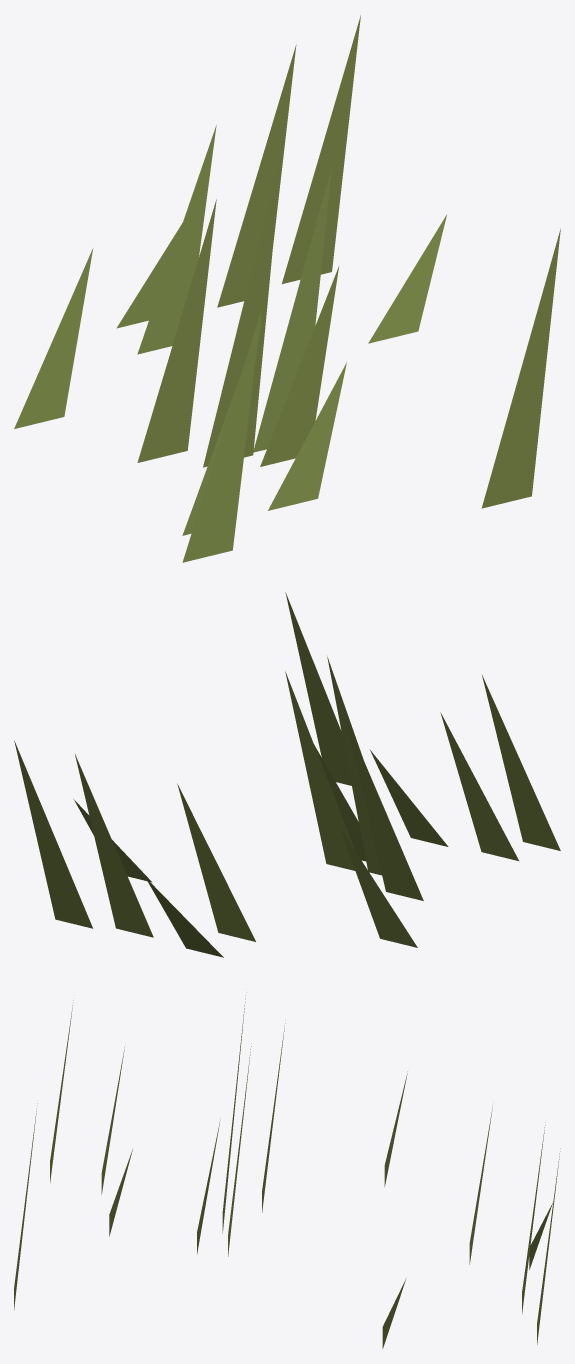
Rendered from BP_Grass_Clump_1.fbx.
3 renders of one model, top to bottom at view 1: azimuth 30°, elevation 25°; view 2: azimuth 150°, elevation 25°; view 3: azimuth 270°, elevation 25°, orthographic. The views are drawn at different scales.
Parts seen in each view (by area): view 1: BP_Grass_Clump_1; view 2: BP_Grass_Clump_1; view 3: BP_Grass_Clump_1.
Part boxes in pixels (x1,y1,x2,y2): BP_Grass_Clump_1: (14, 15, 560, 562); BP_Grass_Clump_1: (14, 592, 560, 957); BP_Grass_Clump_1: (14, 992, 560, 1348).
Bounding box in the file's own units: 81.46 × 49.07 × 90.61.
